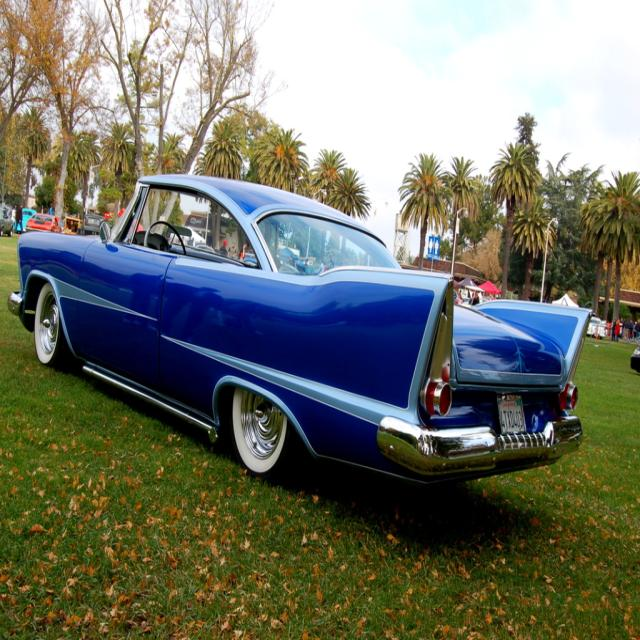car: (4, 165, 590, 485)
